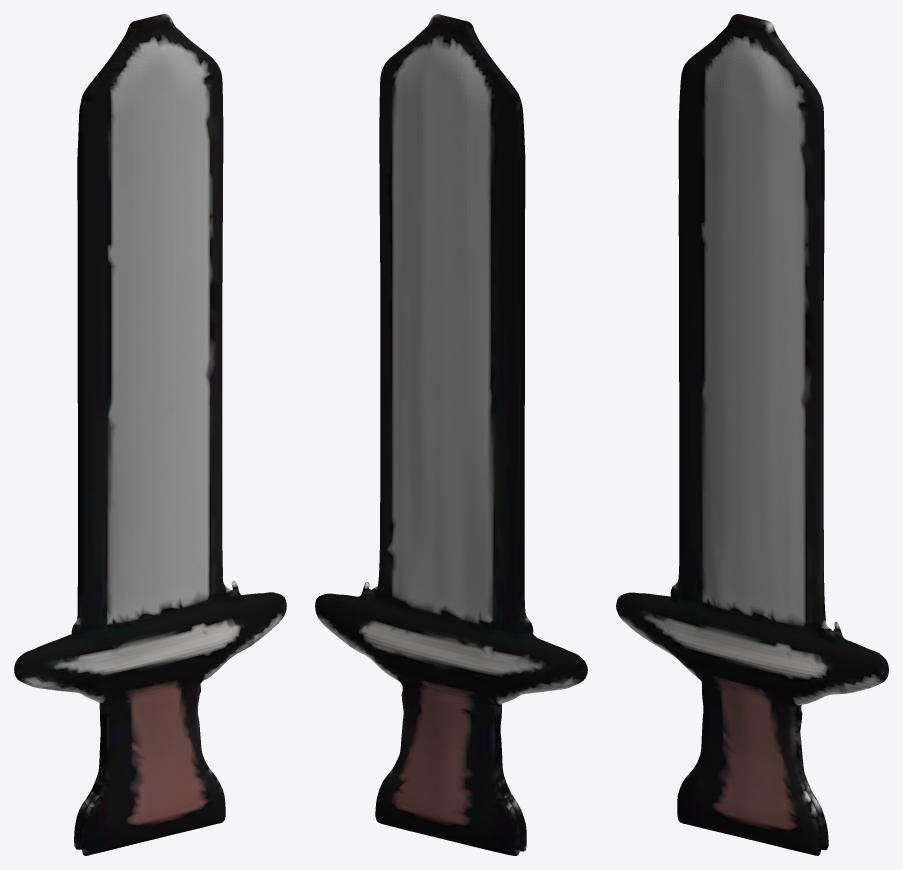
File: bsword_2.glb
3 renders of one model, left to right at view 1: azimuth 30°, elevation 25°; view 2: azimuth 150°, elevation 25°; view 3: azimuth 330°, elevation 25°, orthographic.
Visible parts, largest first — view 1: geometry_0; view 2: geometry_0; view 3: geometry_0.
Part boxes in pixels (x1=…): geometry_0: x1=14, y1=14, x2=286, y2=855; geometry_0: x1=315, y1=14, x2=587, y2=855; geometry_0: x1=616, y1=14, x2=888, y2=855.
Bounding box in the file's own units: 0.3468 × 1 × 0.0519.
